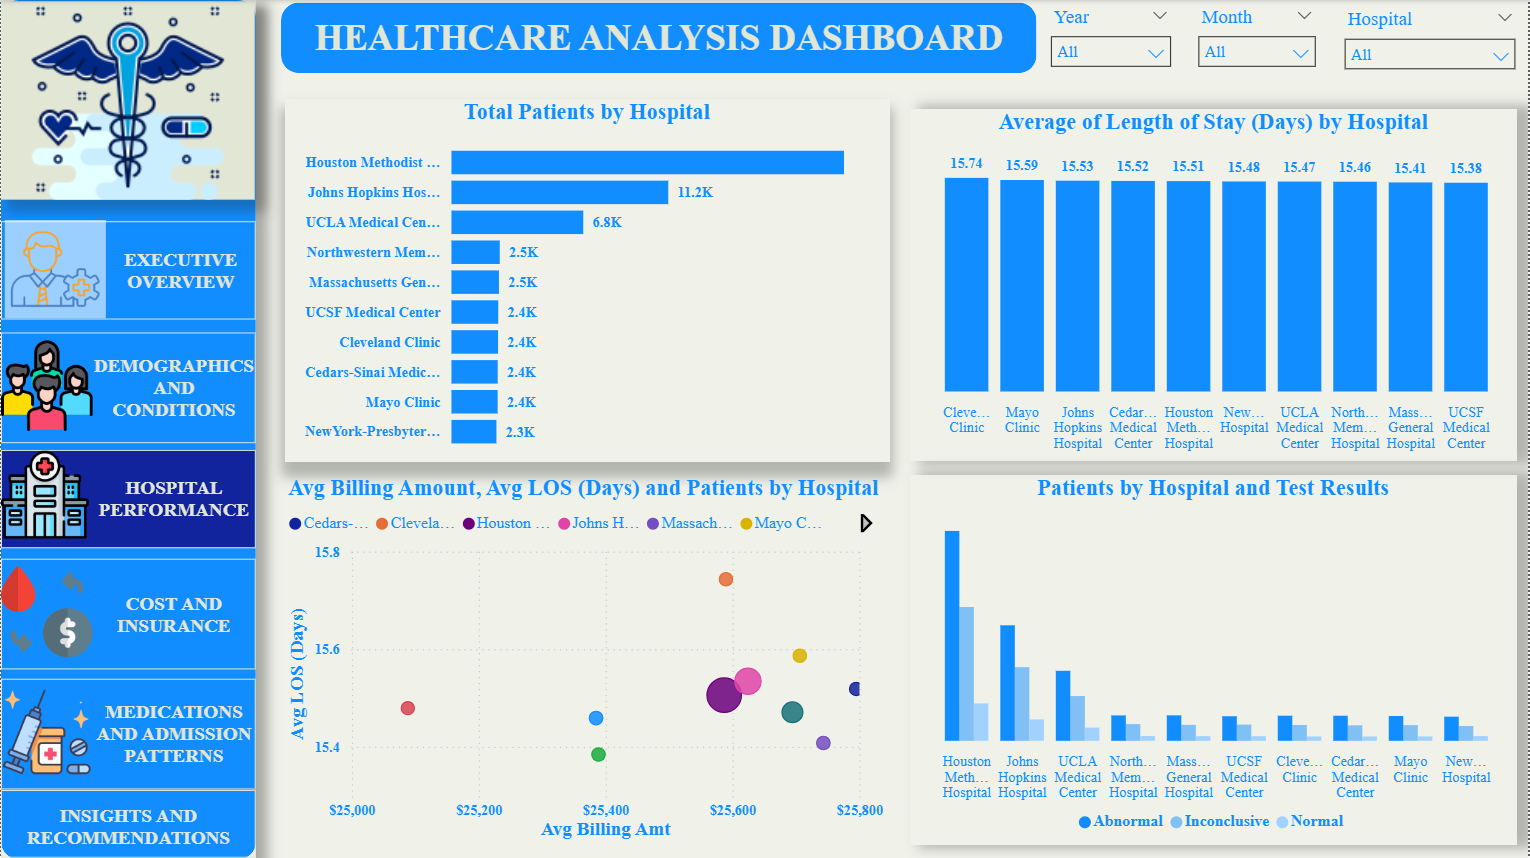

What the dashboard file says about the page in this screenshot:
{"tool":"powerbi","page":{"name":"Page 3","canvas":[1280,720],"ordinal":2},"visuals":[{"type":"shape","box":[0,0,214,720.9],"z":0,"group":"g1"},{"type":"barChart","fields":{"Category":["Data.Hospital"],"Y":["Data.Total Patients"]},"box":[238.4,82.6,507,304.7],"z":0},{"type":"columnChart","fields":{"Category":["Data.Hospital"],"Y":["Avg(Data.Length of Stay (Days))"]},"box":[761.6,90.7,509.3,295.3],"z":1000},{"type":"clusteredColumnChart","title":"Patients by Hospital and Test Results","fields":{"Category":["Data.Hospital"],"Series":["Data.Test Results"],"Y":["Data.Total Patients"]},"box":[761.6,398.8,509.3,310.5],"z":2000},{"type":"scatterChart","title":"Avg Billing Amount, Avg LOS (Days) and Patients by Hospital","fields":{"X":["Avg(Data.Billing Amount)"],"Y":["Avg(Data.Length of Stay (Days))"],"Size":["Data.Total Patients"],"Series":["Data.Hospital"]},"box":[236,398.8,509.3,310.5],"z":3000},{"type":"slicer","fields":{"Values":["Data.Date of Admission.Variation.Date Hierarchy.Year"]},"box":[869.8,0,120.9,61.6],"z":4000},{"type":"slicer","fields":{"Values":["Data.Hospital"]},"box":[1116,2.3,164,59.3],"z":5000},{"type":"slicer","fields":{"Values":["Data.Date of Admission.Variation.Date Hierarchy.Month"]},"box":[994.2,0,118.6,61.6],"z":6000},{"type":"group","id":"g1","title":"Group 10","box":[0,0,214,720.9],"z":7000},{"type":"group","id":"g2","title":"Group 7","box":[0,184.4,214,83.3],"z":8000},{"type":"shape","box":[234.9,2.3,633.7,59.3],"z":9000},{"type":"group","id":"g3","title":"Group 9","box":[0,662.8,214,57],"z":10000},{"type":"shape","box":[0,279.2,214,93],"z":16000,"group":"g5"},{"type":"group","id":"g4","title":"Group 8","box":[0,369.6,214,89.5],"z":16000,"group":"g1"},{"type":"shape","box":[0,468.8,214,93],"z":16000,"group":"g6"},{"type":"shape","box":[0,569.6,214,93],"z":16000,"group":"g7"},{"type":"shape","box":[0,662.8,214,57],"z":16000,"group":"g3"},{"type":"group","id":"g5","title":"Group 9","box":[0,279.2,214,93],"z":17000,"group":"g1"},{"type":"group","id":"g6","title":"Group 9","box":[0,468.8,214,93],"z":18000,"group":"g1"},{"type":"shape","box":[0,185.2,214,82.6],"z":18500,"group":"g2"},{"type":"group","id":"g7","title":"Group 9","box":[0,569.6,214,93],"z":19000,"group":"g1"},{"type":"shape","box":[0,376.5,214,82.6],"z":19500,"group":"g4"},{"type":"image","box":[0,1.2,212.8,166.3],"z":20000,"group":"g1"},{"type":"shape","box":[88.4,185.1,125.6,82.6],"z":21500,"group":"g2"},{"type":"image","box":[3.5,184.4,84.9,82.6],"z":22000,"group":"g2"},{"type":"image","box":[0,369.6,73.3,89.5],"z":23000,"group":"g4"},{"type":"shape","box":[76.7,379.4,137.2,79.1],"z":26500,"group":"g4"},{"type":"image","box":[0,280.3,76.7,87.2],"z":27001,"group":"g5"},{"type":"image","box":[0,469.9,76.7,87.2],"z":27001,"group":"g6"},{"type":"image","box":[0,570.7,76.7,87.2],"z":27001,"group":"g7"},{"type":"shape","box":[76.7,280.1,137.2,90.7],"z":27501,"group":"g5"},{"type":"shape","box":[76.7,470.2,137.2,90.7],"z":27501,"group":"g6"},{"type":"shape","box":[76.7,570.1,137.2,91.9],"z":27501,"group":"g7"},{"type":"shape","box":[0,666.5,214,52.3],"z":27501,"group":"g3"}]}

Visuals, with their boxes in screenshot pixels (x1, y1, x2, y2), scaled from the page's 1280x720 canvas onto the 1530x858 screenshot:
shape: (left=0, top=0, right=256, bottom=857)
barChart - Data.Hospital x Data.Total Patients: (left=285, top=98, right=891, bottom=462)
columnChart - Data.Hospital x Avg(Data.Length of Stay (Days)): (left=910, top=108, right=1519, bottom=460)
"Patients by Hospital and Test Results" clusteredColumnChart: (left=910, top=475, right=1519, bottom=845)
"Avg Billing Amount, Avg LOS (Days) and Patients by Hospital" scatterChart: (left=282, top=475, right=891, bottom=845)
slicer - Data.Date of Admission.Variation.Date Hierarchy.Year: (left=1040, top=0, right=1184, bottom=73)
slicer - Data.Hospital: (left=1334, top=3, right=1529, bottom=73)
slicer - Data.Date of Admission.Variation.Date Hierarchy.Month: (left=1188, top=0, right=1330, bottom=73)
"Group 10" group: (left=0, top=0, right=256, bottom=857)
"Group 7" group: (left=0, top=220, right=256, bottom=319)
shape: (left=281, top=3, right=1038, bottom=73)
"Group 9" group: (left=0, top=790, right=256, bottom=857)
shape: (left=0, top=333, right=256, bottom=444)
"Group 8" group: (left=0, top=440, right=256, bottom=547)
shape: (left=0, top=559, right=256, bottom=669)
shape: (left=0, top=679, right=256, bottom=790)
shape: (left=0, top=790, right=256, bottom=857)
"Group 9" group: (left=0, top=333, right=256, bottom=444)
"Group 9" group: (left=0, top=559, right=256, bottom=669)
shape: (left=0, top=221, right=256, bottom=319)
"Group 9" group: (left=0, top=679, right=256, bottom=790)
shape: (left=0, top=449, right=256, bottom=547)
image: (left=0, top=1, right=254, bottom=200)
shape: (left=106, top=221, right=256, bottom=319)
image: (left=4, top=220, right=106, bottom=318)
image: (left=0, top=440, right=88, bottom=547)
shape: (left=92, top=452, right=256, bottom=546)
image: (left=0, top=334, right=92, bottom=438)
image: (left=0, top=560, right=92, bottom=664)
image: (left=0, top=680, right=92, bottom=784)
shape: (left=92, top=334, right=256, bottom=442)
shape: (left=92, top=560, right=256, bottom=668)
shape: (left=92, top=679, right=256, bottom=789)
shape: (left=0, top=794, right=256, bottom=857)
